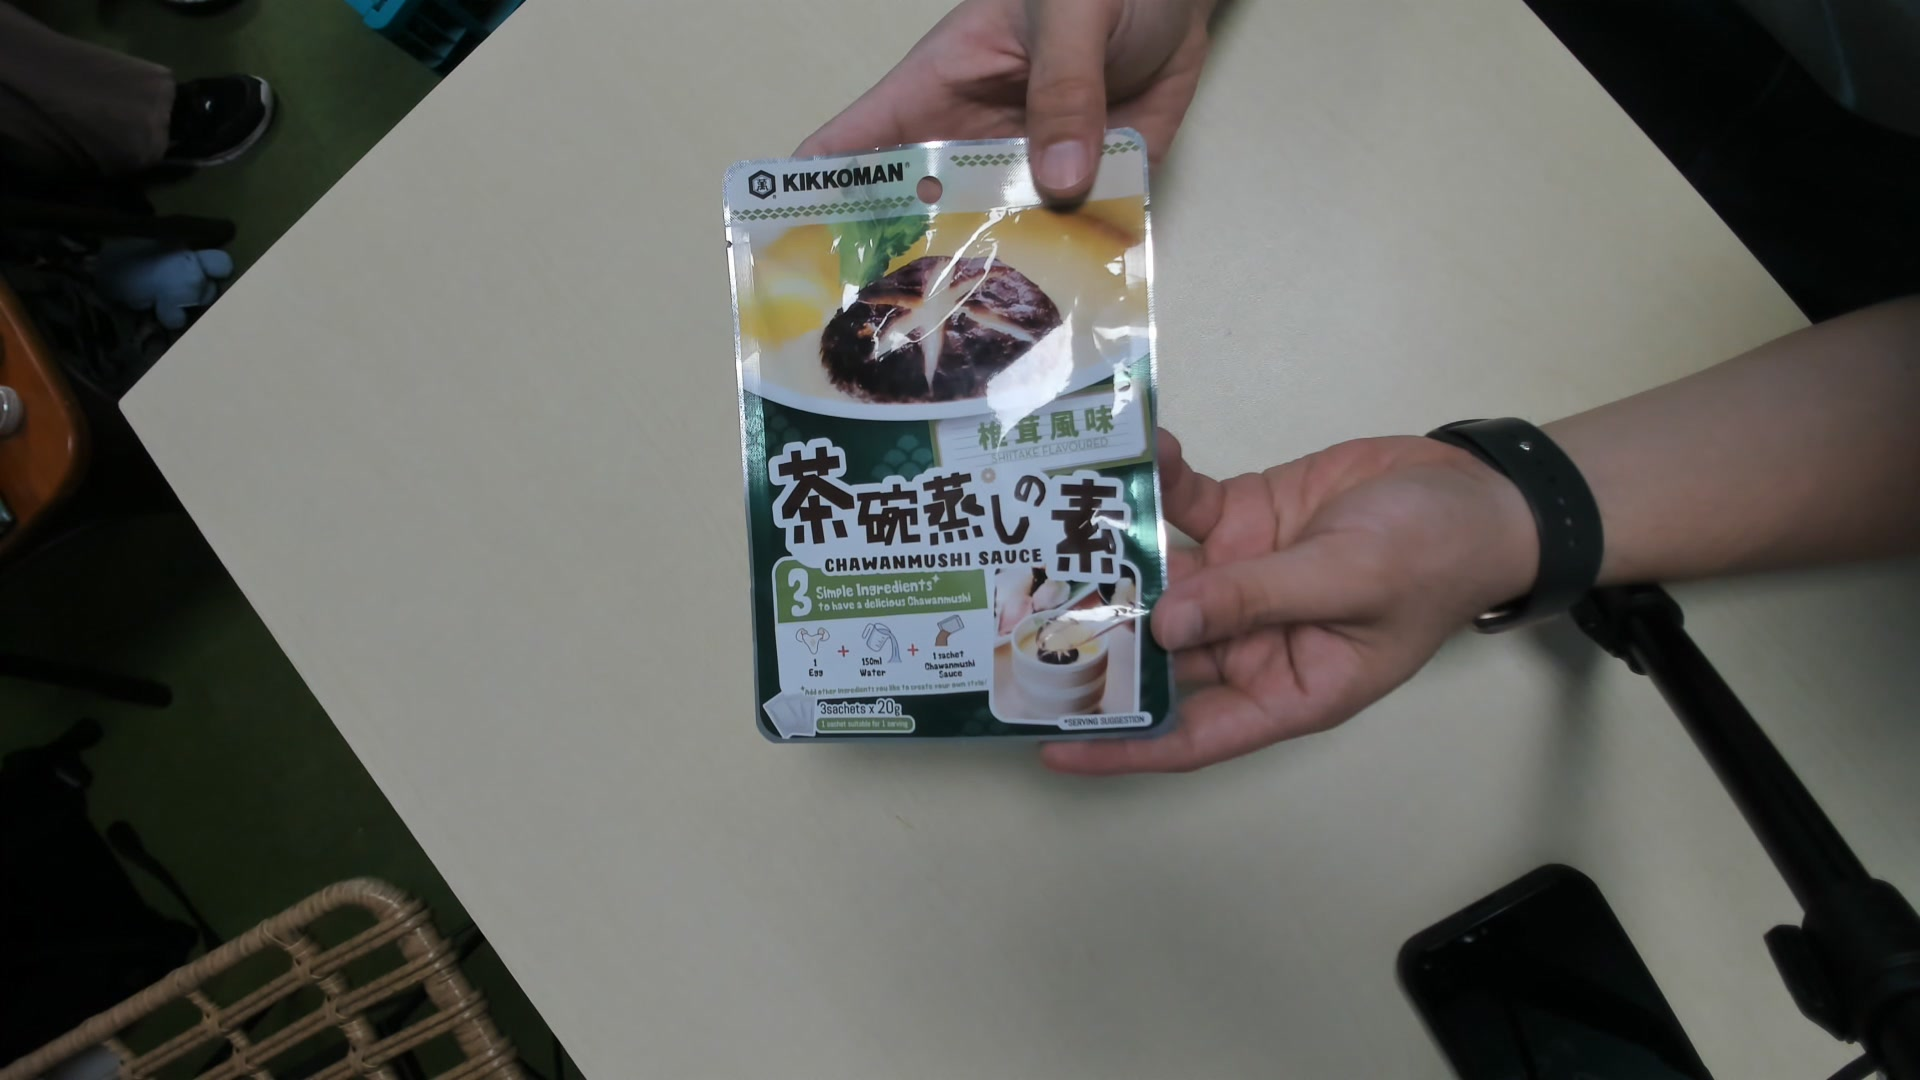OtherSauceDressing_0-99g_NonHalal_NonHealthy: (717, 131, 1171, 752)
